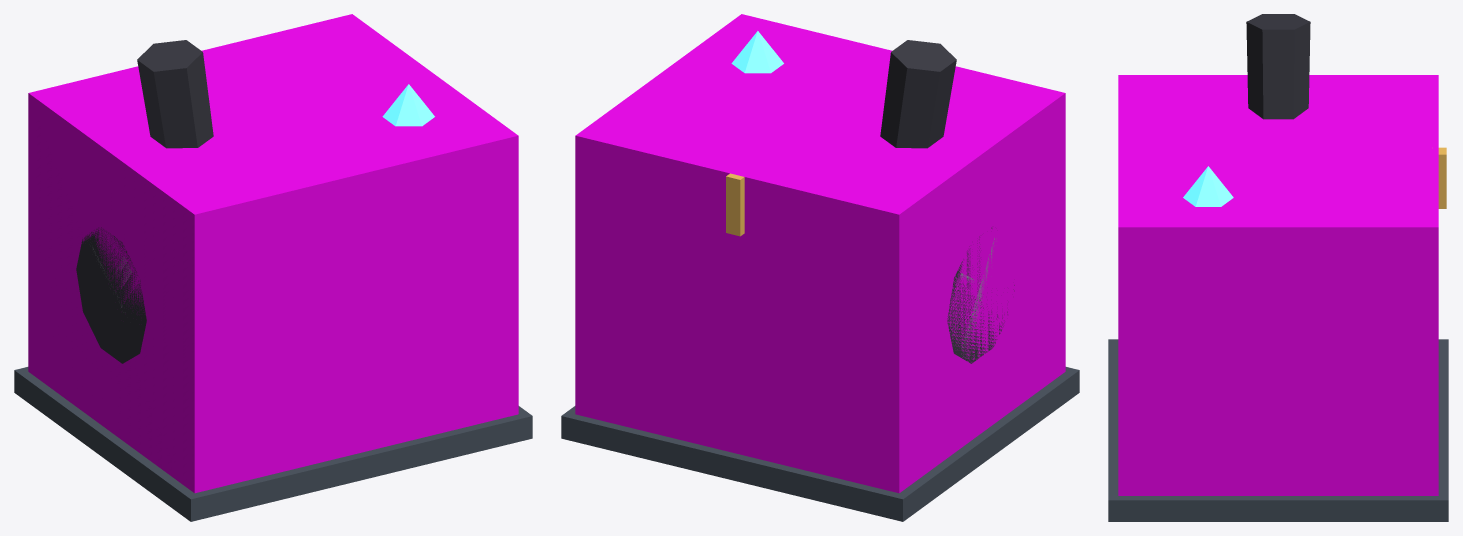
File: generator.glb
The picture shows the model from 3 angles, left to right: view 1: azimuth 30°, elevation 25°; view 2: azimuth 150°, elevation 25°; view 3: azimuth 270°, elevation 25°; orthographic projection. The views are drawn at different scales.
Visible parts, largest first — view 1: Col_main, M_b1, M_b2, Glow; view 2: Col_main, M_b1, M_b2, Glow, M_b4; view 3: Col_main, M_b1, M_b2, Glow, M_b4.
Boxes of the visible parts, box(x1,y1,x2,y2) form: Col_main: box(28, 14, 518, 493); M_b1: box(14, 367, 532, 521); M_b2: box(76, 40, 213, 363); Glow: box(382, 84, 434, 126); Col_main: box(575, 14, 1065, 493); M_b1: box(561, 367, 1079, 521); M_b2: box(880, 40, 1014, 363); Glow: box(731, 31, 783, 73); M_b4: box(726, 173, 744, 236); Col_main: box(1118, 75, 1438, 495); M_b1: box(1108, 339, 1448, 521); M_b2: box(1246, 14, 1310, 119); Glow: box(1183, 166, 1233, 206); M_b4: box(1438, 147, 1446, 208).
Bounding box in the file's own units: 1.9 × 2.07 × 1.7.
